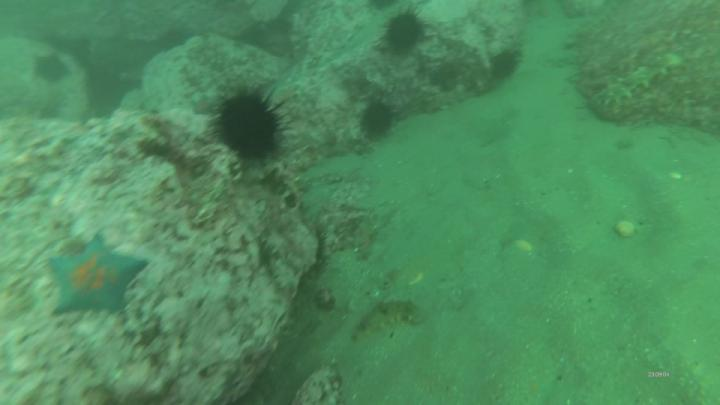echinus: (208, 87, 298, 164), (379, 5, 432, 56), (360, 97, 400, 141), (491, 49, 525, 83)
holothurian: (593, 54, 686, 108), (353, 300, 429, 339)
starfish: (42, 234, 150, 318)
